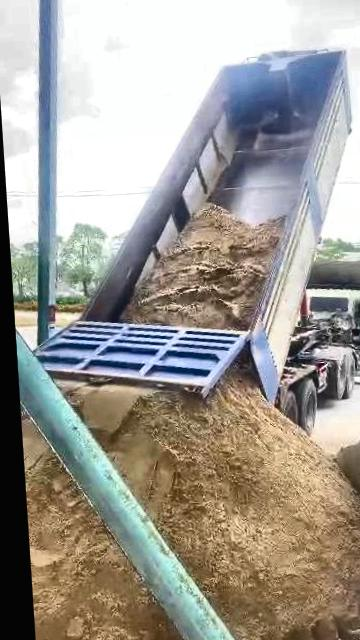sand: (71, 364, 360, 640), (27, 455, 193, 640), (122, 206, 283, 328), (336, 422, 360, 529), (21, 417, 48, 472)
